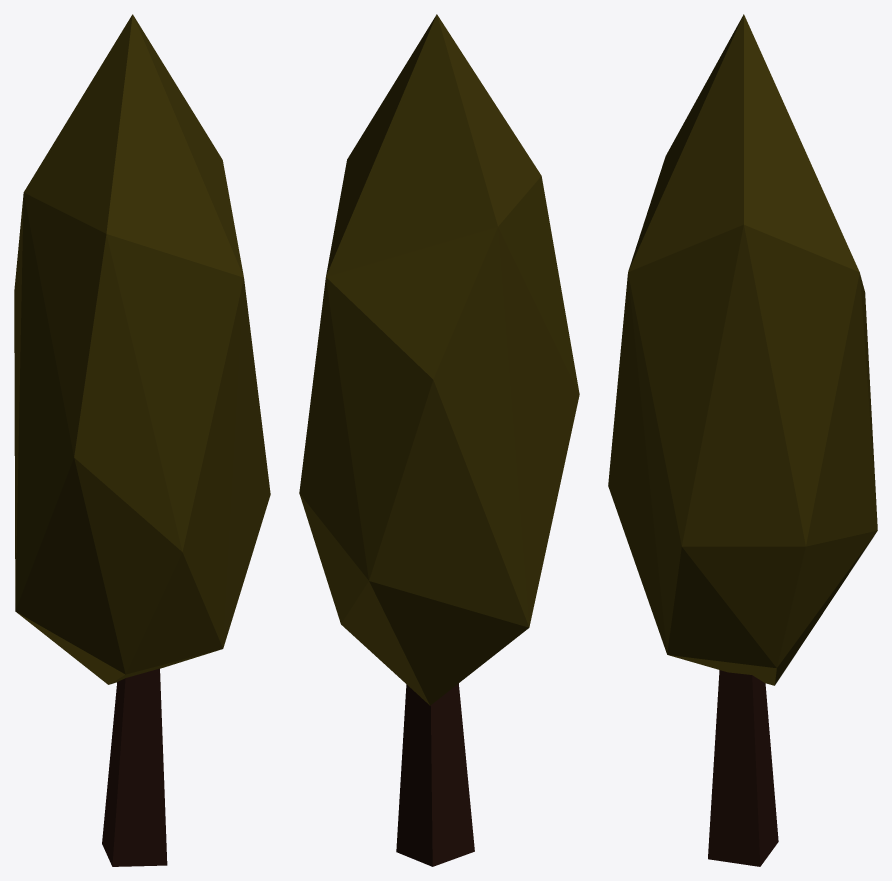
The model's file is PointyTree1.fbx.glb.
The picture shows the model from 3 angles, left to right: view 1: azimuth 30°, elevation 25°; view 2: azimuth 150°, elevation 25°; view 3: azimuth 270°, elevation 25°; orthographic projection.
Visible parts, largest first — view 1: PointyTree1; view 2: PointyTree1; view 3: PointyTree1.
Part boxes in pixels (<box>): PointyTree1: <box>14,14,270,866</box>; PointyTree1: <box>299,14,579,866</box>; PointyTree1: <box>608,14,877,866</box>.
Size of the model in its own units: 81.9 by 311 by 90.86.
